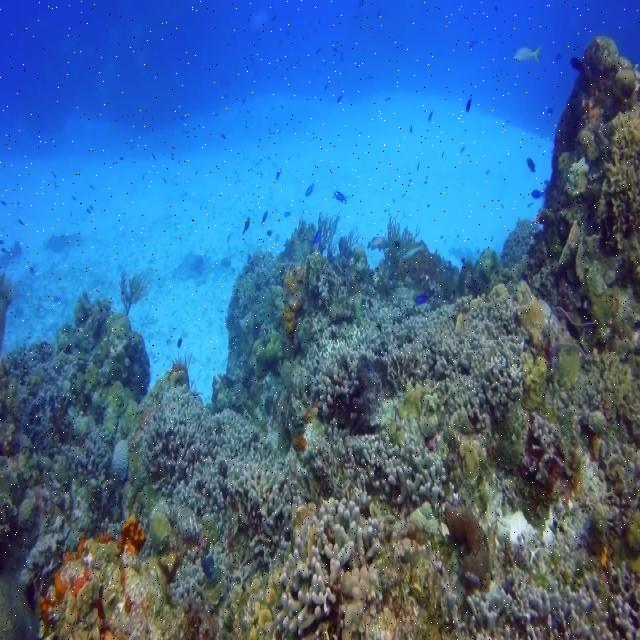fish: (513, 42, 543, 68), (415, 289, 435, 306), (333, 191, 350, 204), (305, 182, 316, 198), (527, 158, 537, 174), (259, 209, 268, 226), (242, 216, 250, 235), (531, 190, 545, 198), (275, 167, 282, 182), (466, 96, 472, 109), (15, 198, 22, 209), (16, 218, 25, 226), (428, 112, 433, 123), (440, 150, 446, 159), (53, 179, 57, 190), (385, 95, 391, 102), (1, 200, 8, 206), (88, 184, 95, 190), (409, 124, 413, 134), (29, 266, 34, 274), (85, 208, 91, 214), (1, 248, 8, 253), (71, 196, 77, 201), (89, 205, 94, 211)
reefs: (0, 34, 639, 640)
